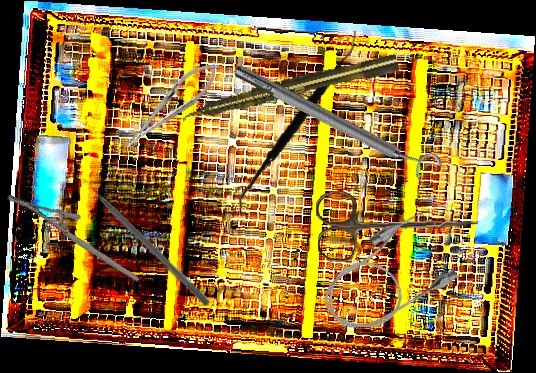Cannula: (306, 203, 468, 347)
Fixation Ring: (228, 52, 446, 191)
Handpiece: (179, 51, 400, 127)
Iris Scissors: (315, 183, 480, 264)
Needle Holder: (6, 164, 140, 313), (115, 52, 228, 158)
Pusher: (75, 170, 213, 308)
Spatula Surgical: (238, 25, 359, 222)
